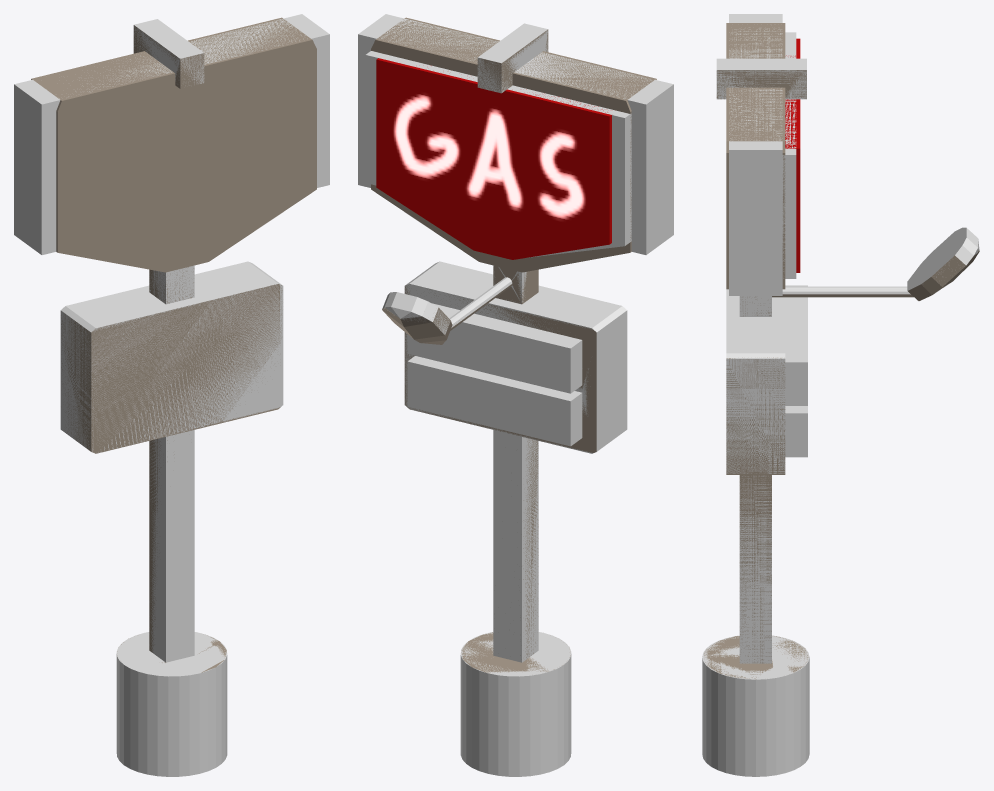
Rendered from gas_sign_2_b.glb.
The picture shows the model from 3 angles, left to right: view 1: azimuth 30°, elevation 25°; view 2: azimuth 150°, elevation 25°; view 3: azimuth 270°, elevation 25°; orthographic projection. The views are drawn at different scales.
Parts seen in each view (by area): view 1: Cube.001, Cube.004, Cylinder, Cube.002, Cube, Cube.005; view 2: Cube.001, Cylinder, Cube.002, Cube.004, Cube, Cube.007, Cube.006, Cube.003, Cube.005, Cube.008, Cylinder.001; view 3: Cube.001, Cylinder, Cube.002, Cube.004, Cube, Cube.005, Cube.003, Cube.006, Cube.008, Cylinder.002, Cube.007, Cylinder.001.
Boxes of the visible parts, x1,y1,x2,y2 form: Cube.001: [31, 17, 316, 672]; Cube.004: [60, 261, 283, 453]; Cylinder: [116, 632, 227, 776]; Cube.002: [14, 14, 329, 254]; Cube: [149, 265, 194, 662]; Cube.005: [133, 19, 204, 85]; Cube.001: [371, 17, 656, 673]; Cylinder: [460, 632, 571, 776]; Cube.002: [358, 14, 673, 254]; Cube.004: [404, 261, 627, 453]; Cube: [493, 266, 538, 662]; Cube.007: [407, 356, 582, 446]; Cube.006: [407, 303, 582, 393]; Cube.003: [365, 51, 631, 257]; Cube.005: [477, 23, 548, 92]; Cube.008: [382, 292, 450, 334]; Cylinder.001: [449, 277, 512, 327]; Cube.001: [704, 23, 979, 679]; Cylinder: [702, 635, 809, 776]; Cube.002: [729, 14, 782, 295]; Cube.004: [726, 289, 785, 473]; Cube: [739, 296, 771, 663]; Cube.005: [716, 58, 806, 99]; Cube.003: [782, 32, 796, 278]; Cube.006: [785, 285, 807, 405]; Cube.008: [907, 227, 979, 290]; Cylinder.002: [704, 635, 809, 679]; Cube.007: [785, 406, 807, 457]; Cylinder.001: [782, 286, 910, 294].
Bounding box in the file's own units: 6 × 14.18 × 5.17.
Materials: 3 (2 with a texture image).
